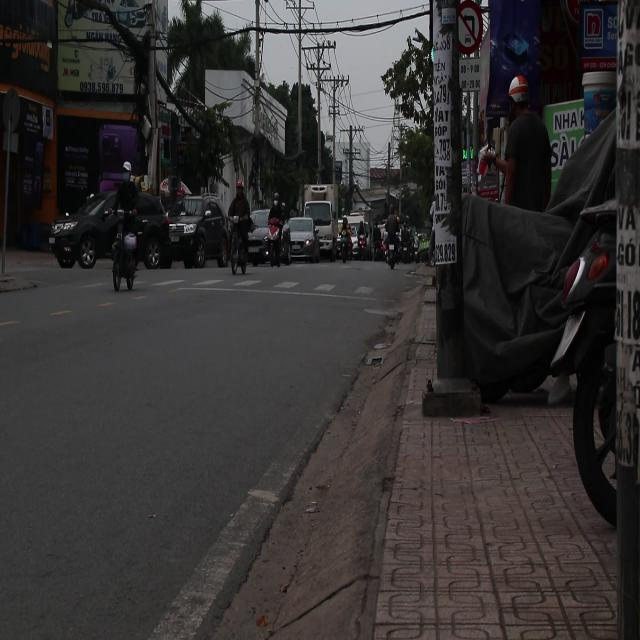car: (50, 181, 174, 274), (165, 193, 229, 270), (251, 212, 310, 268), (286, 218, 319, 266)
motorbike: (106, 202, 145, 297), (227, 211, 253, 278), (263, 212, 283, 273), (386, 234, 398, 276)
truck: (302, 188, 336, 252)
